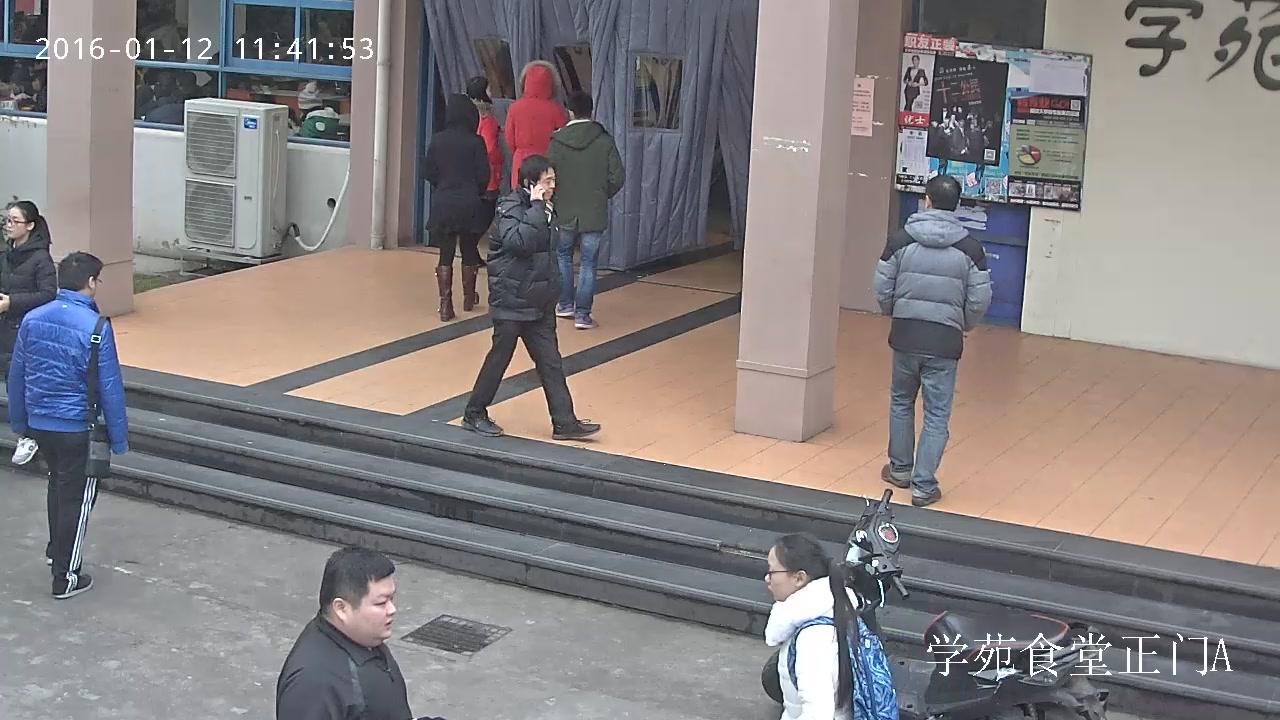person: (6, 250, 131, 599), (461, 153, 601, 440), (873, 174, 992, 506), (762, 531, 901, 720), (274, 543, 413, 720), (546, 91, 625, 329), (423, 93, 492, 323), (0, 200, 56, 466), (505, 59, 571, 196), (463, 75, 502, 200), (289, 79, 339, 141), (902, 55, 929, 112)
